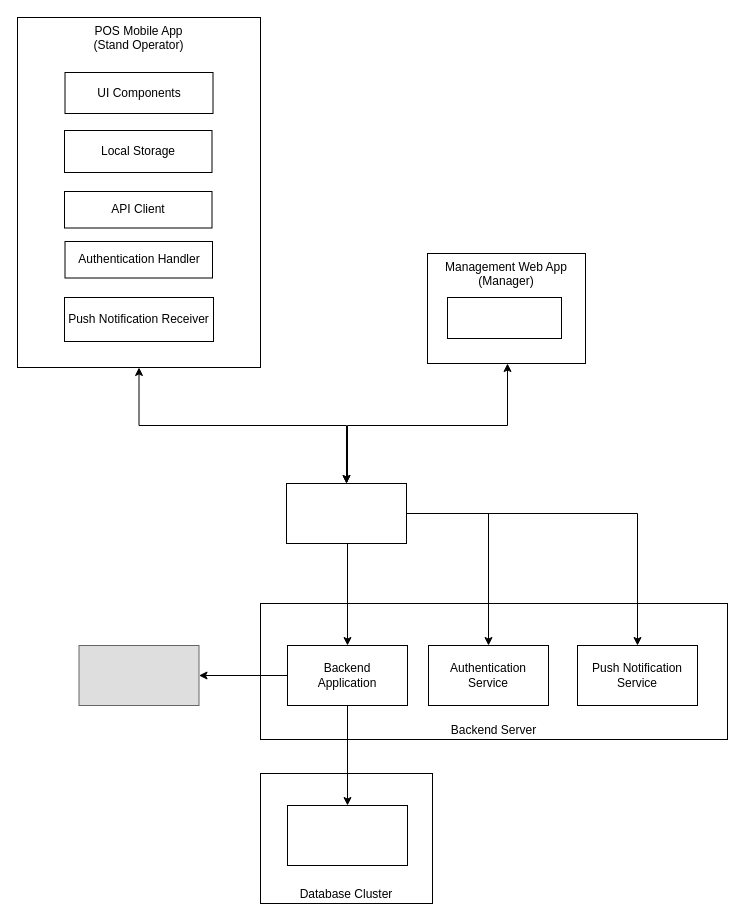
The diagram is 745 pixels wide and 921 high, and some of its shapes have lost their labels. The shapes that lost their labels are listed below. From the top down, each one's centre as x and y in pixels, then its label:
At (504,317): "UI".
At (346,513): "API Gateway".
At (138,675): "External Payment System".
At (347,835): "Database".
